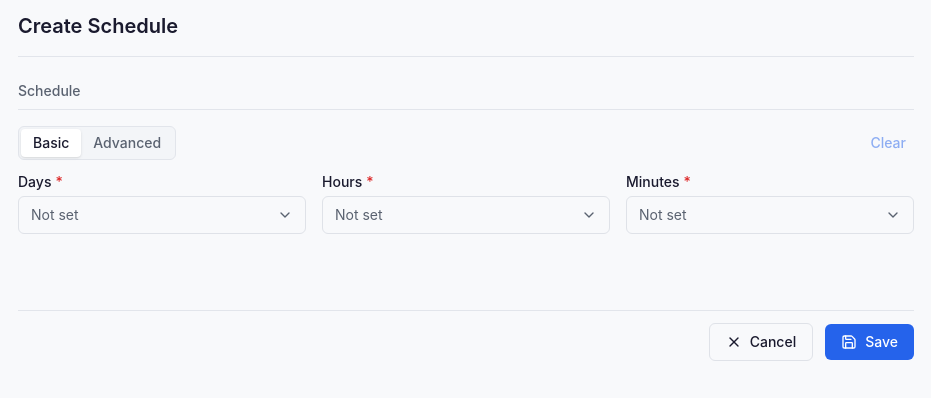
Test: Record form regressions (#649) › shows the required message for an unset schedule in the schedule editor and does not save
Click the button "Save" at [870, 342], box [825,324,914,360]
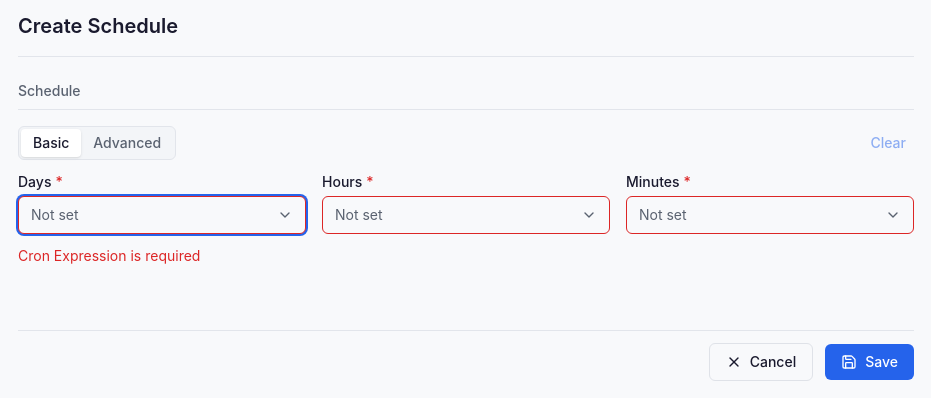
Check: the text "Cron Expression is required" is shown, box [18,247,200,264]
